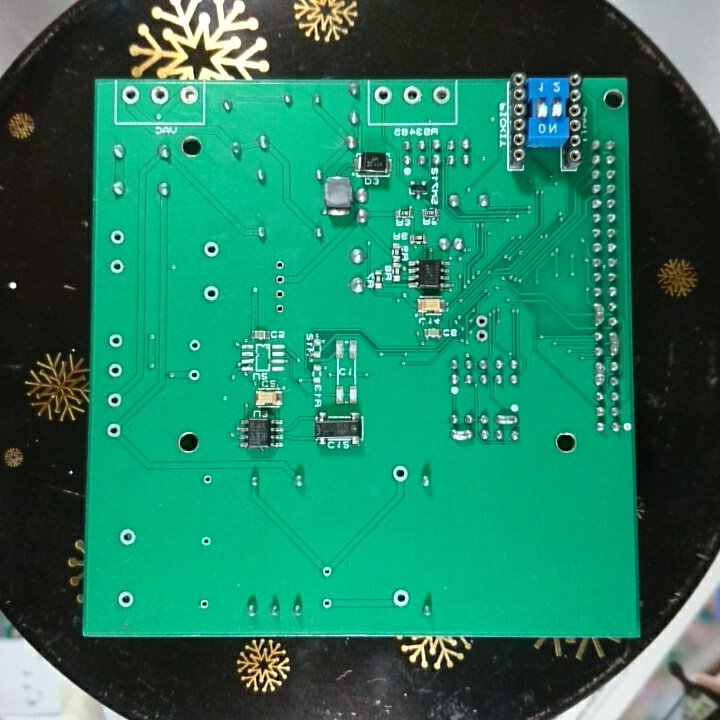F: (401, 83, 424, 110), (178, 82, 199, 109), (119, 85, 141, 109), (148, 83, 170, 107), (114, 589, 137, 611), (373, 84, 394, 108), (116, 526, 137, 549), (431, 84, 451, 108), (391, 587, 411, 609), (202, 238, 220, 262), (104, 420, 124, 440), (106, 360, 126, 380), (200, 283, 220, 303), (105, 391, 125, 410), (105, 331, 125, 350), (391, 463, 409, 484), (109, 227, 125, 248), (198, 532, 215, 551), (472, 326, 489, 345), (196, 595, 212, 614), (187, 336, 203, 355), (108, 258, 125, 275), (271, 272, 288, 289), (473, 313, 491, 329), (319, 564, 334, 582), (186, 368, 202, 384), (271, 288, 288, 303), (271, 258, 288, 272), (271, 302, 289, 315), (320, 596, 334, 612), (199, 472, 215, 486)
P: (591, 301, 608, 329), (606, 330, 622, 359), (593, 360, 608, 389), (493, 410, 520, 426), (448, 426, 473, 443)
